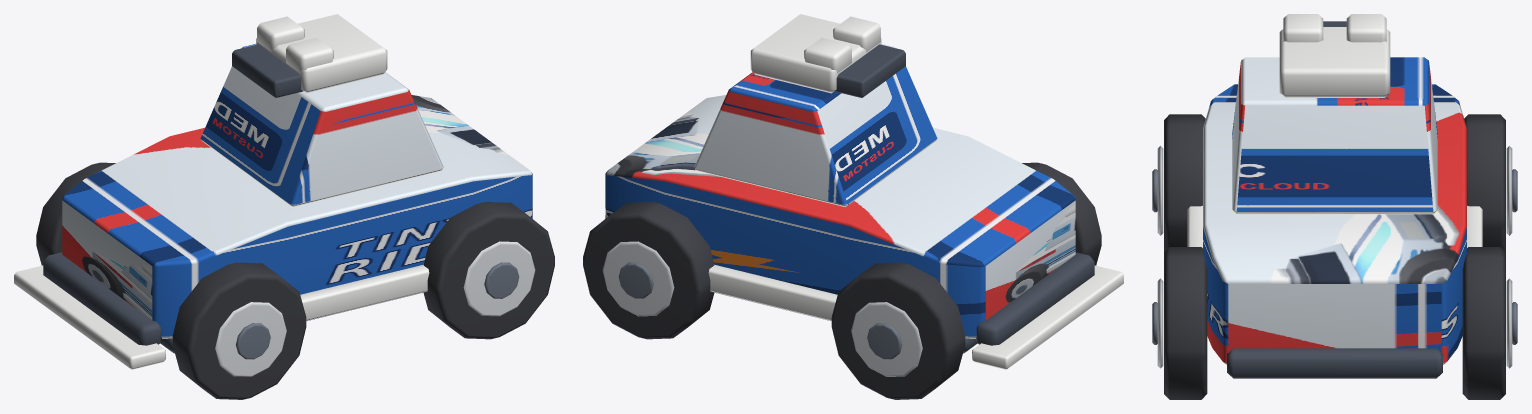
3 views of the same model, side by side, from view 1: azimuth 30°, elevation 25°; view 2: azimuth 150°, elevation 25°; view 3: azimuth 270°, elevation 25° (orthographic). The views are drawn at different scales.
Visible parts, largest first — view 1: RC-02_connected_shell, RC-02_cabin, Tire, Tire.002, custom equipment, custom chin, front bumper, custom side guard, Rim.002, Rim, beacon mount, Tire.001 (+4 smaller); view 2: RC-02_connected_shell, RC-02_cabin, Tire.001, Tire.003, custom equipment, custom chin, front bumper, custom side guard.001, Rim.003, Rim.001, beacon mount, Tire (+4 smaller); view 3: RC-02_connected_shell, RC-02_cabin, custom equipment, rear bumper, Tire.002, Tire.003, Tire, Tire.001, beacon lens, beacon lens.001, custom side guard, custom side guard.001 (+4 smaller).
Part boxes in pixels (x1,y1,x2,y2): RC-02_connected_shell: (62,95,532,338); RC-02_cabin: (200,44,443,206); Tire: (172,262,306,399); Tire.002: (423,202,554,339); custom equipment: (256,14,387,93); custom chin: (14,265,165,369); front bumper: (43,252,161,345); custom side guard: (300,264,429,320); Rim.002: (463,241,535,316); Rim: (215,302,286,376); beacon mount: (232,44,303,97); Tire.001: (36,162,115,265); RC-02_connected_shell: (605,95,1075,338); RC-02_cabin: (694,44,937,206); Tire.001: (831,262,965,399); Tire.003: (583,202,714,339); custom equipment: (750,14,881,93); custom chin: (972,265,1123,369); front bumper: (976,252,1094,345); custom side guard.001: (708,264,837,320); Rim.003: (602,241,674,316); Rim.001: (851,302,922,376); beacon mount: (834,44,905,97); Tire: (1022,162,1101,265); RC-02_connected_shell: (1203,84,1466,364); RC-02_cabin: (1232,57,1437,214); custom equipment: (1279,27,1390,97); rear bumper: (1227,348,1442,378); Tire.002: (1164,247,1207,399); Tire.003: (1462,247,1505,399); Tire: (1164,114,1205,252); Tire.001: (1464,114,1505,252); beacon lens: (1283,14,1323,42); beacon lens.001: (1346,14,1386,42); custom side guard: (1187,205,1202,247); custom side guard.001: (1467,205,1482,247).
Bounding box in the file's own units: 322 × 201 × 219.
